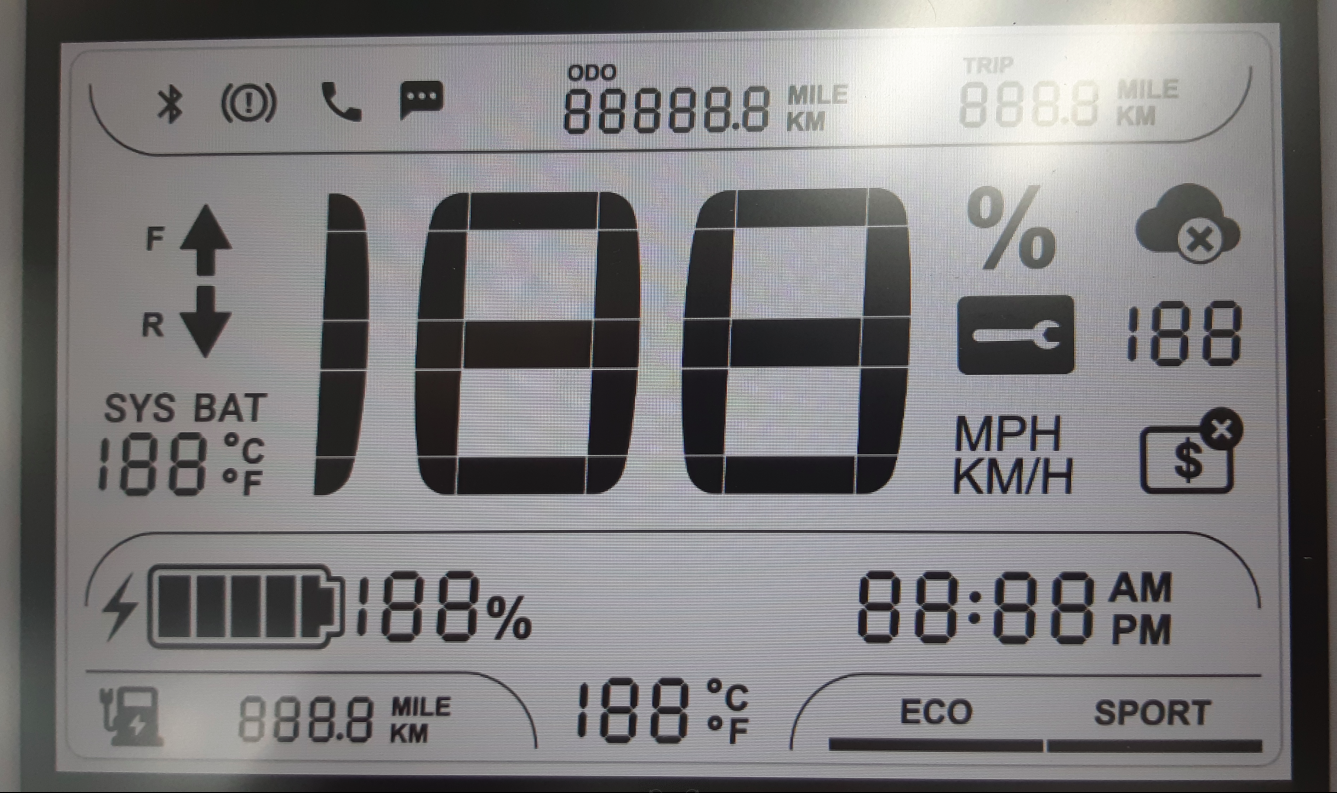bluetooth_on: (150, 77, 189, 129)
braking_on: (217, 79, 279, 126)
calling_on: (317, 78, 369, 126)
connection_lost: (1131, 179, 1247, 268)
error_code: (951, 290, 1080, 379)
low_battery: (94, 678, 170, 753)
sms_on: (395, 77, 447, 122)
vin_id: (1135, 403, 1247, 501)
